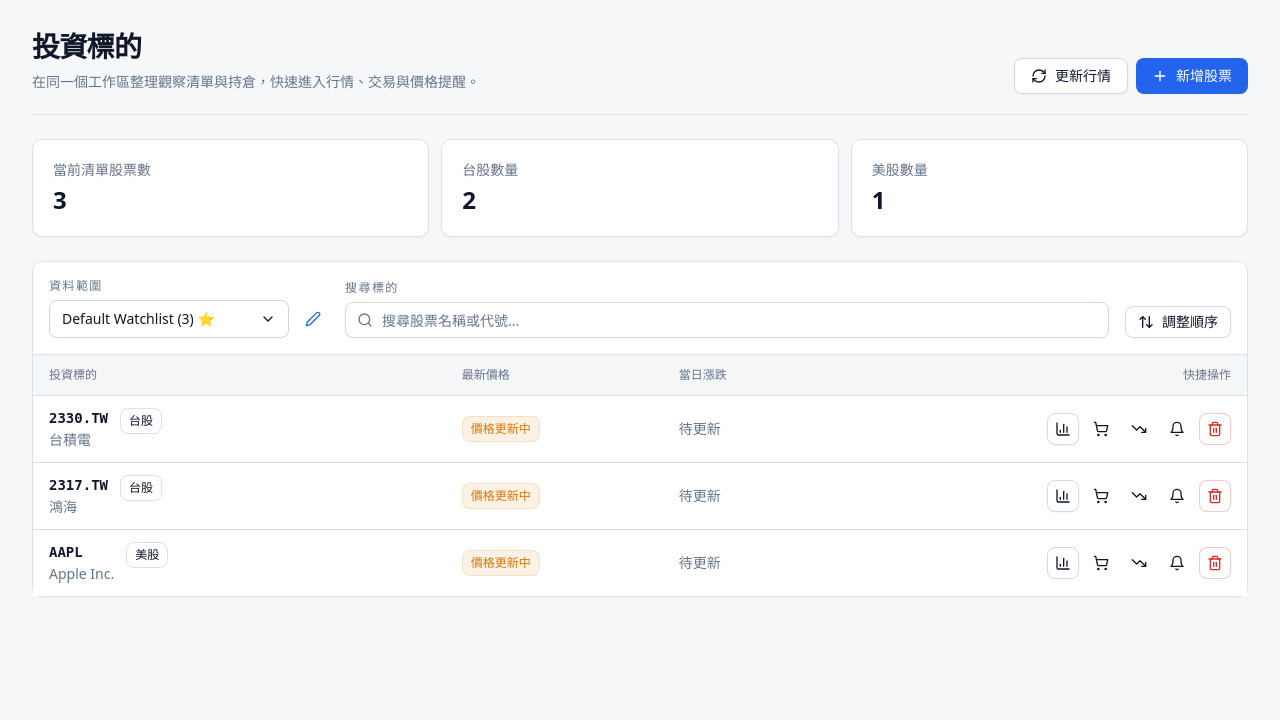
Test: StockManagementPage - 狀態管理優化測試 › 持倉 API 失敗時應顯示可重試的錯誤狀態
Click the button "Default Watchlist (3) ⭐" at (169, 319), box left=49, top=300, right=289, bottom=338
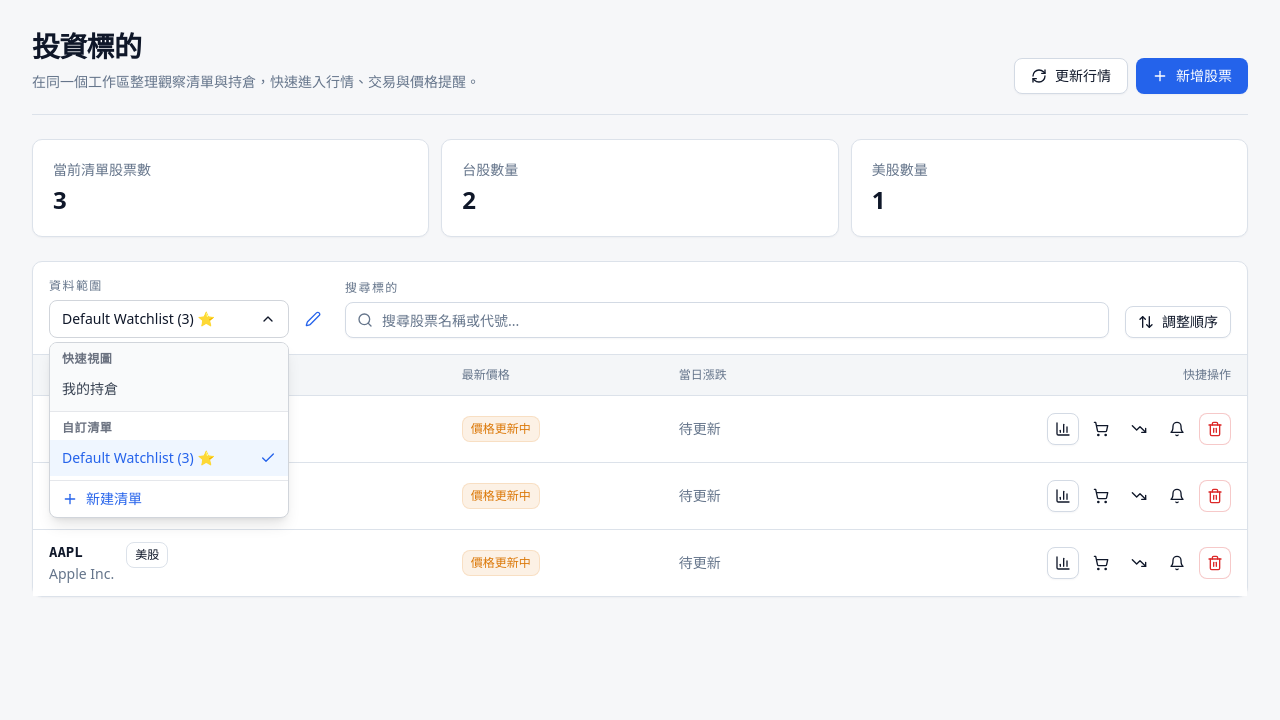
Click the button "我的持倉" at (169, 389), box left=50, top=371, right=288, bottom=407
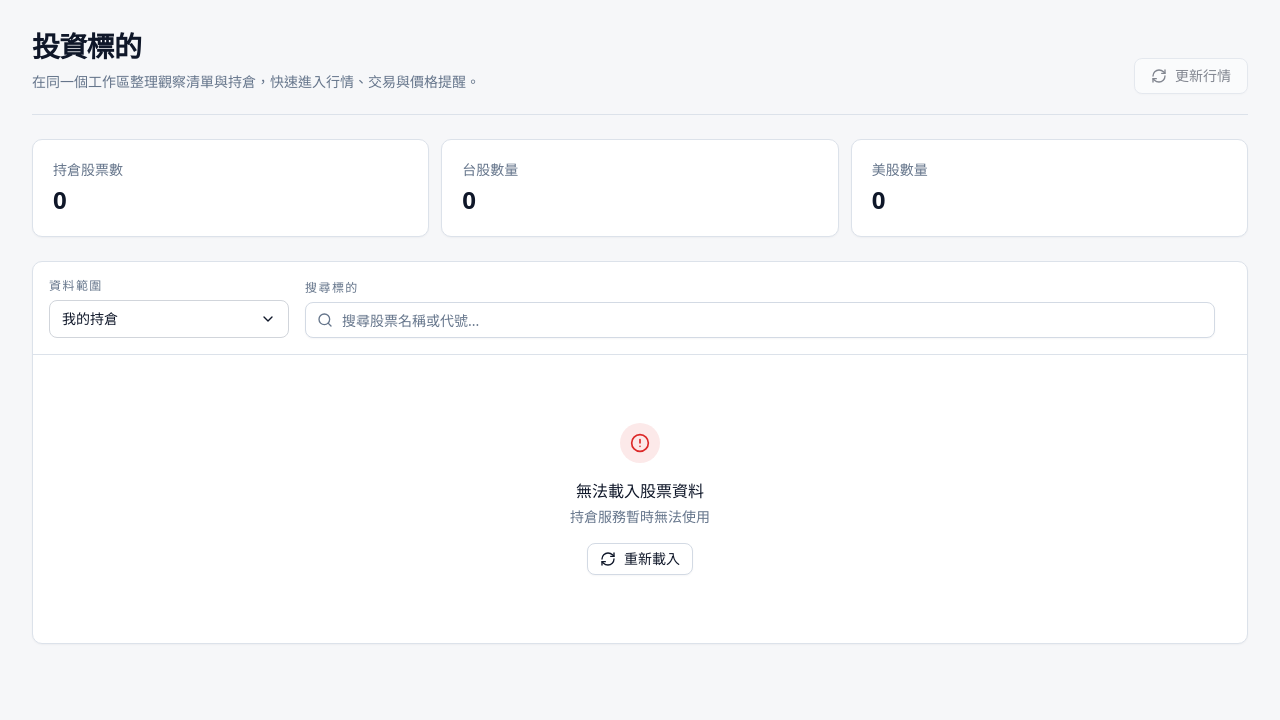
Expected: the text "持倉服務暫時無法使用" is shown, left=570, top=507, right=710, bottom=527
Expected: the button "重新載入" is shown, left=587, top=543, right=693, bottom=575
